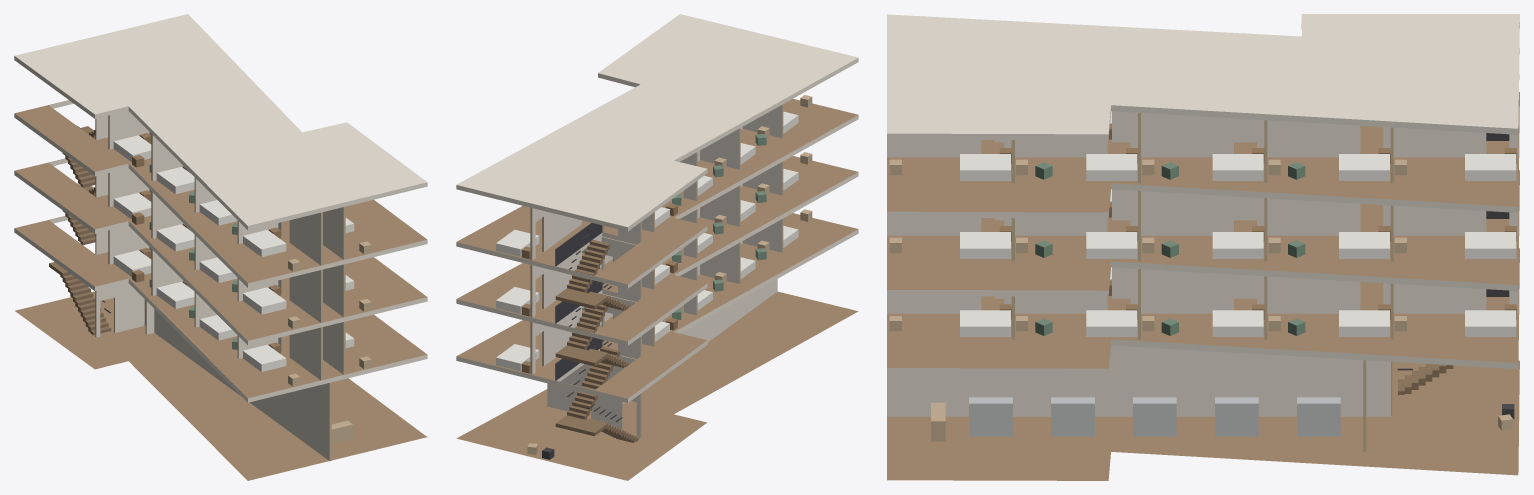
Rendered from interior.glb.
The picture shows the model from 3 angles, left to right: view 1: azimuth 30°, elevation 25°; view 2: azimuth 150°, elevation 25°; view 3: azimuth 270°, elevation 25°; orthographic projection. The views are drawn at different scales.
Visible parts, largest first — view 1: slabs, partitions, coarse-s2, coarse-s1, coarse-s3, stair, coarse-s0; view 2: slabs, partitions, stair, coarse-s2, coarse-s1, coarse-s3; view 3: slabs, partitions, coarse-s0, coarse-s3, coarse-s2, coarse-s1, stair.
Part boxes in pixels (bbox=[...]): slabs: bbox=[14, 14, 427, 480]; partitions: bbox=[95, 110, 345, 461]; coarse-s2: bbox=[113, 190, 371, 328]; coarse-s1: bbox=[113, 248, 371, 386]; coarse-s3: bbox=[113, 133, 371, 271]; stair: bbox=[49, 126, 111, 335]; coarse-s0: bbox=[331, 420, 352, 444]; slabs: bbox=[456, 14, 858, 480]; partitions: bbox=[530, 104, 783, 438]; stair: bbox=[555, 222, 638, 442]; coarse-s2: bbox=[496, 152, 812, 316]; coarse-s1: bbox=[496, 209, 812, 373]; coarse-s3: bbox=[496, 95, 812, 259]; slabs: bbox=[887, 14, 1519, 480]; partitions: bbox=[887, 111, 1518, 451]; coarse-s0: bbox=[931, 397, 1514, 441]; coarse-s3: bbox=[889, 111, 1516, 180]; coarse-s2: bbox=[889, 189, 1516, 258]; coarse-s1: bbox=[889, 267, 1516, 336]; stair: bbox=[1397, 133, 1509, 394].
Bounding box in the file's own units: 11.12 × 14.96 × 24.72.
